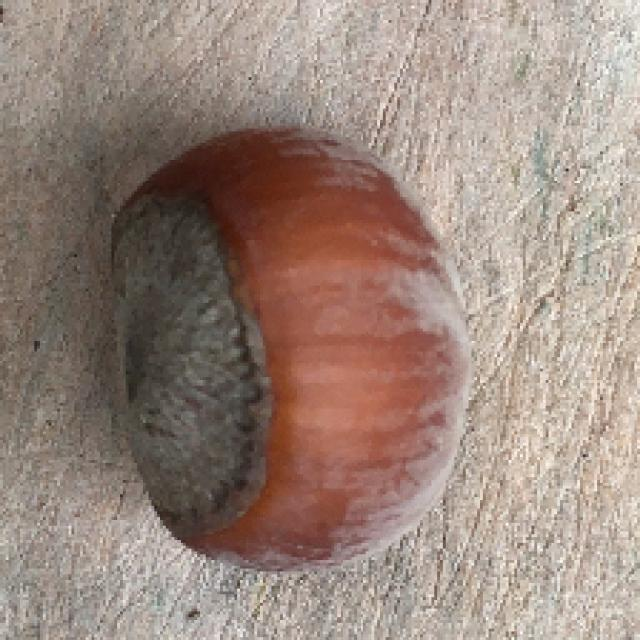qualityHazelnut: (102, 118, 478, 579)
